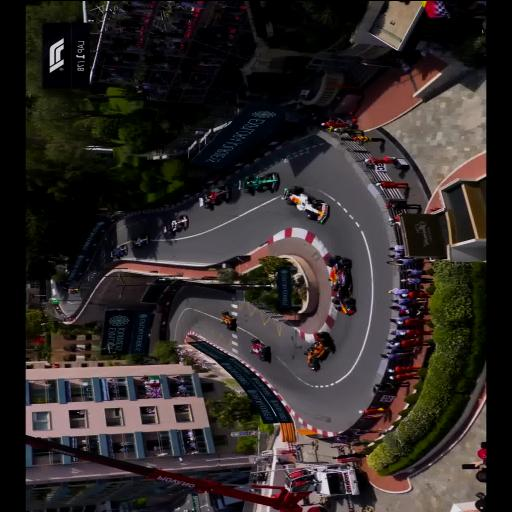f1_car: (282, 185, 329, 222), (328, 255, 355, 314), (304, 331, 332, 370), (238, 172, 279, 193), (250, 337, 270, 361), (208, 184, 230, 202), (220, 310, 236, 330), (198, 194, 219, 209), (164, 214, 181, 232), (110, 244, 127, 257), (174, 214, 188, 227), (133, 234, 148, 246)
